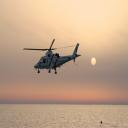helicopter: (28, 41, 82, 76)
